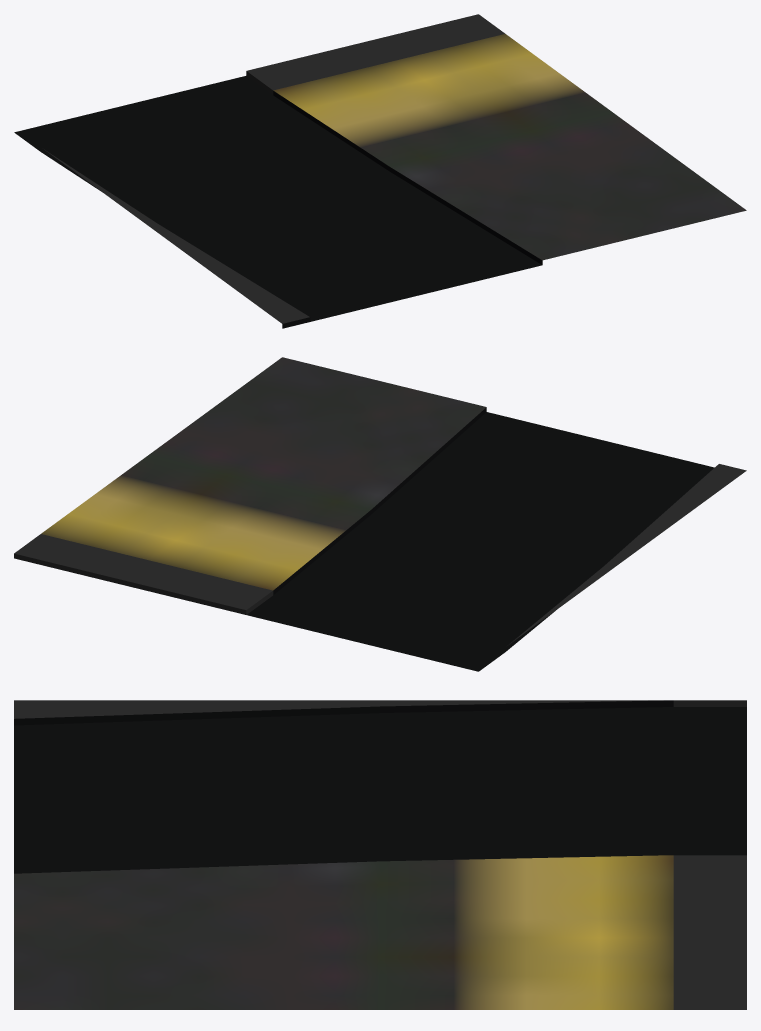
The model's file is 0E_hut_l.obj.
3 renders of one model, top to bottom at view 1: azimuth 30°, elevation 25°; view 2: azimuth 150°, elevation 25°; view 3: azimuth 270°, elevation 25°, orthographic. The views are drawn at different scales.
Parts seen in each view (by area): view 1: 0E_hut_l_Plane.018; view 2: 0E_hut_l_Plane.018; view 3: 0E_hut_l_Plane.018.
Part boxes in pixels (box(x1,y1,x2,y2)): 0E_hut_l_Plane.018: box(14, 14, 746, 328); 0E_hut_l_Plane.018: box(14, 357, 746, 671); 0E_hut_l_Plane.018: box(14, 700, 746, 1009).
Size of the model in its own units: 1.6 by 0.016 by 1.6.
